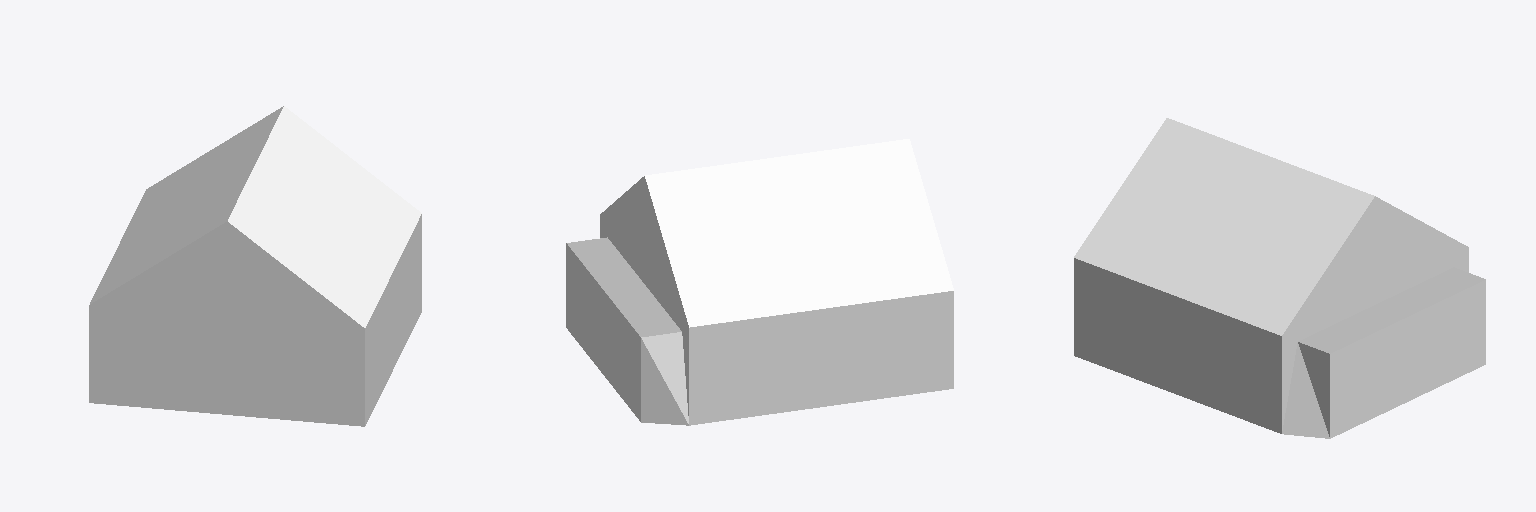
File: house_Shape 189.obj
The picture shows the model from 3 angles: view 1: azimuth 30°, elevation 25°; view 2: azimuth 150°, elevation 25°; view 3: azimuth 270°, elevation 25°; orthographic projection.
Visible parts, largest first — view 1: CityEngineMaterial_80, CityEngineMaterial_21, CityEngineMaterial_81; view 2: CityEngineMaterial_80, CityEngineMaterial_21, CityEngineMaterial_79; view 3: CityEngineMaterial_21, CityEngineMaterial_80, CityEngineMaterial_81, CityEngineMaterial_79.
Part boxes in pixels (x1,y1,x2,y2): CityEngineMaterial_80: (89,221,364,426); CityEngineMaterial_21: (90,106,421,327); CityEngineMaterial_81: (365,214,421,425); CityEngineMaterial_80: (566,176,953,425); CityEngineMaterial_21: (645,139,953,327); CityEngineMaterial_79: (567,237,681,336); CityEngineMaterial_21: (1074,118,1374,335); CityEngineMaterial_80: (1282,196,1485,438); CityEngineMaterial_81: (1074,258,1281,433); CityEngineMaterial_79: (1298,267,1485,353).
Size of the model in its own units: 14.03 by 7.36 by 14.21.